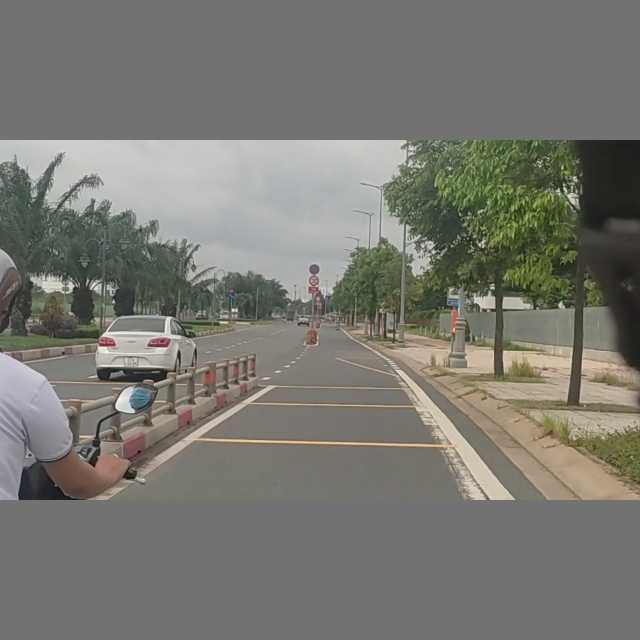P.111: (307, 275, 319, 287)
P.130: (308, 263, 320, 275)
